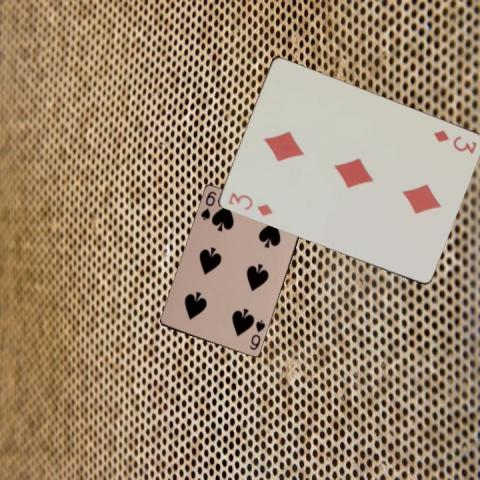3d: (225, 189, 274, 218), (430, 127, 478, 156)
6s: (246, 317, 267, 352), (198, 189, 218, 222)
